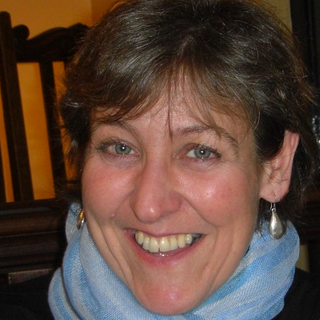eye: (169, 138, 233, 172), (94, 136, 142, 164)
